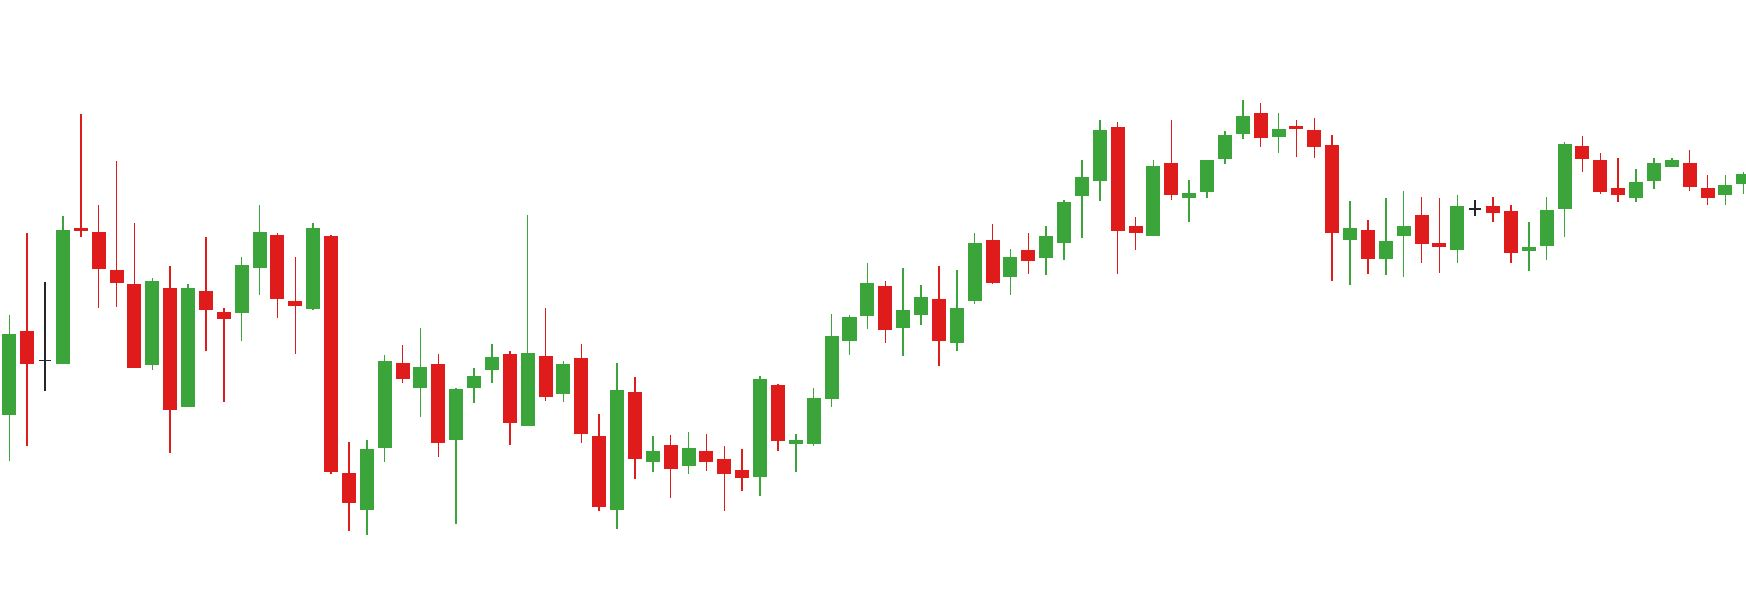buy: (157, 281, 379, 544), (1088, 140, 1360, 294), (449, 336, 628, 534)
